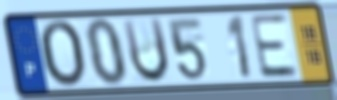0: (82, 17, 131, 89)
1: (223, 13, 253, 82)
5: (165, 15, 210, 83)
E: (247, 12, 301, 81)
O: (37, 18, 88, 90)
U: (120, 15, 172, 86)
